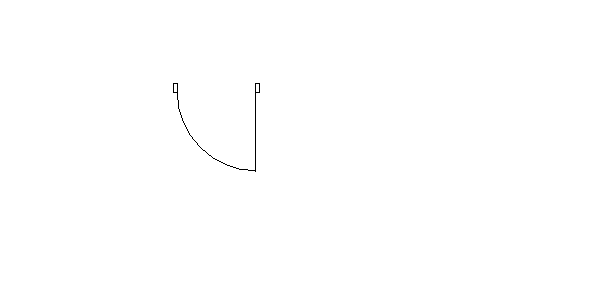door: (175, 103, 260, 183)
